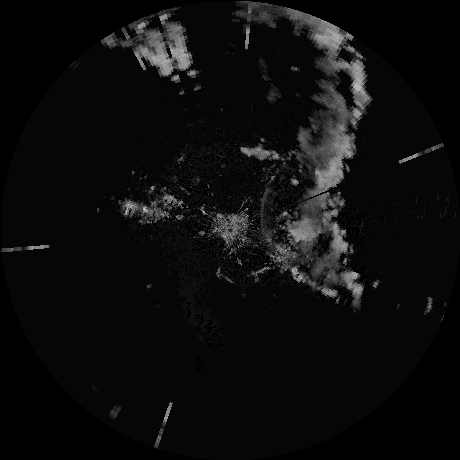frontgust: (259, 176, 278, 241)
